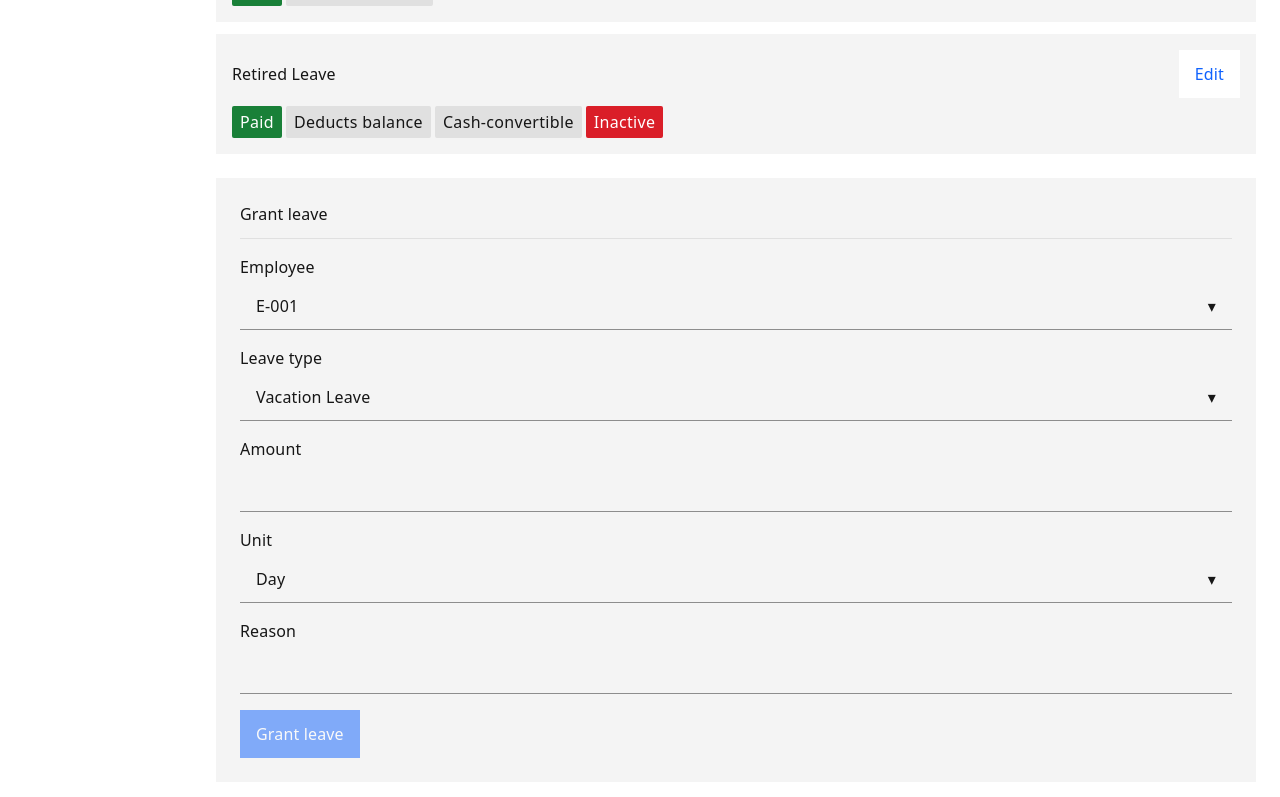
/office/leave-types — grant form › excludes an event type (deducts_balance false) and an inactive type from the leave-type Select
(page scrolled)
Click the dropdown named "Leave type" at (313, 397), box [240,374,1232,421]
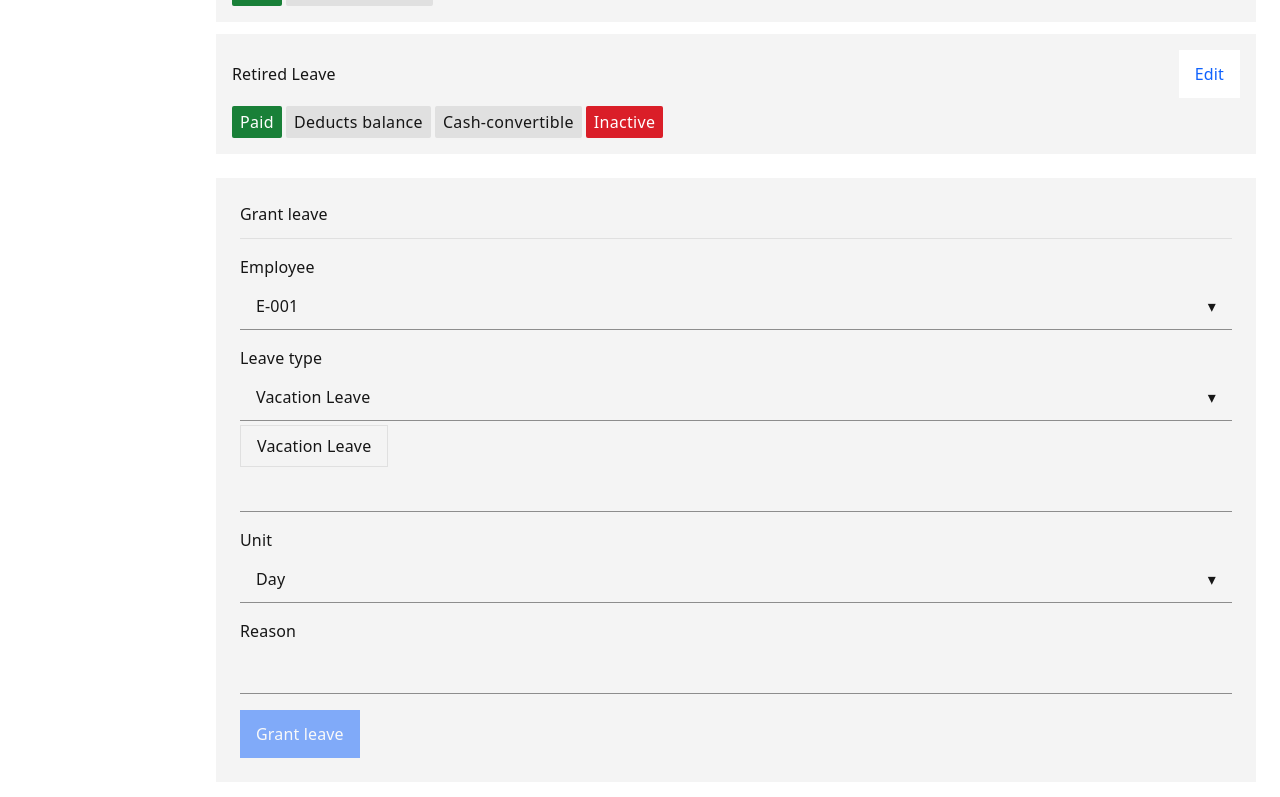
Expected: the option "Vacation Leave" is shown, [241,426,387,466]
